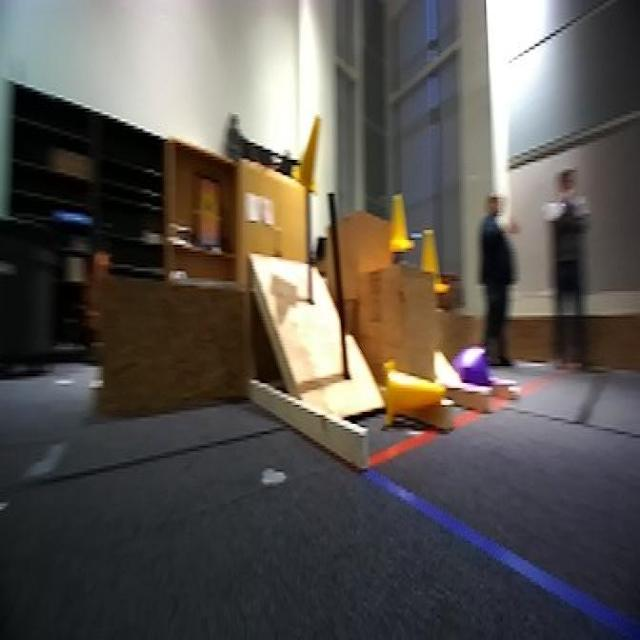frc_cone: (380, 354, 447, 436), (292, 114, 325, 191), (420, 228, 450, 293), (388, 194, 412, 255)
frc_cube: (454, 349, 488, 395)
